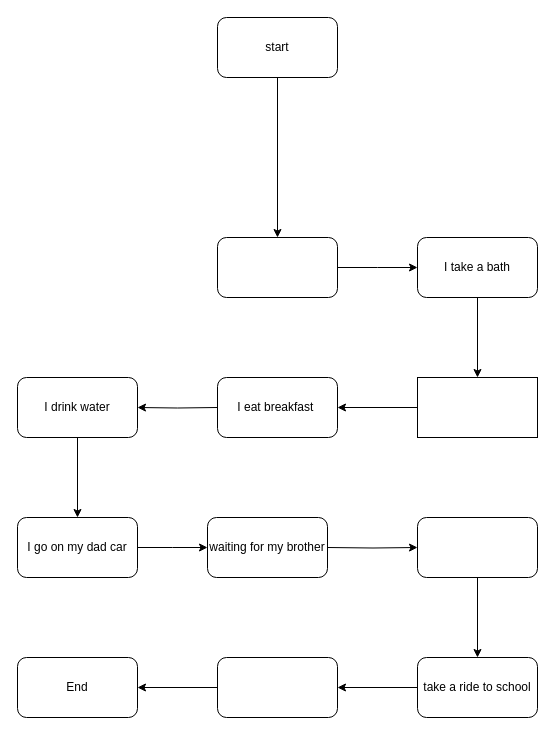
Some shapes in this 555 by 735 pixel diagram are drawn without their labels. Each missing label, with the box of its shape:
arrive at school: (216, 656, 338, 718)
Drive out from the house: (416, 516, 538, 578)
I wake up: (216, 236, 338, 298)
Pack up my bag: (416, 376, 538, 438)
